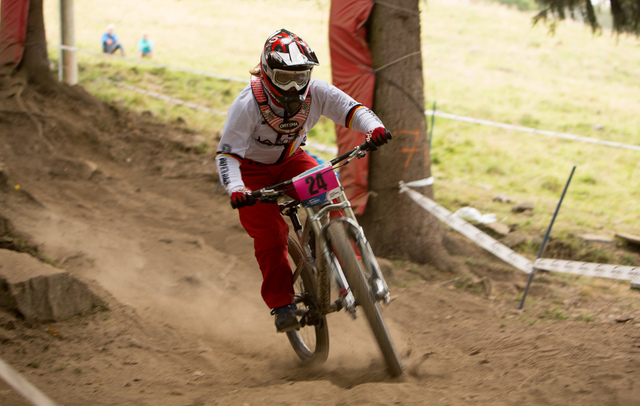helmet: (265, 33, 320, 96)
